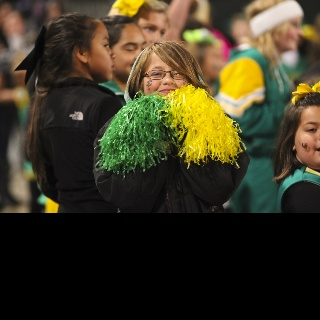without_mask: (143, 51, 190, 101), (112, 22, 147, 76), (87, 22, 116, 80), (137, 12, 167, 46), (279, 17, 303, 50), (204, 46, 225, 79)
